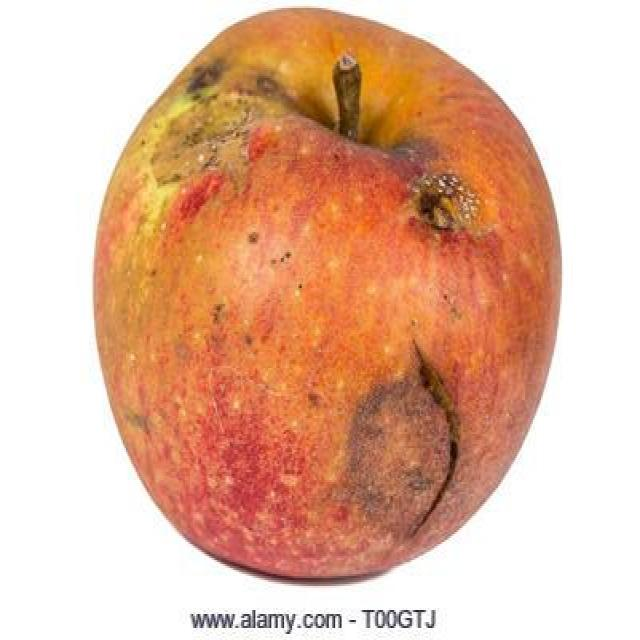Rotten: (83, 6, 569, 587)
